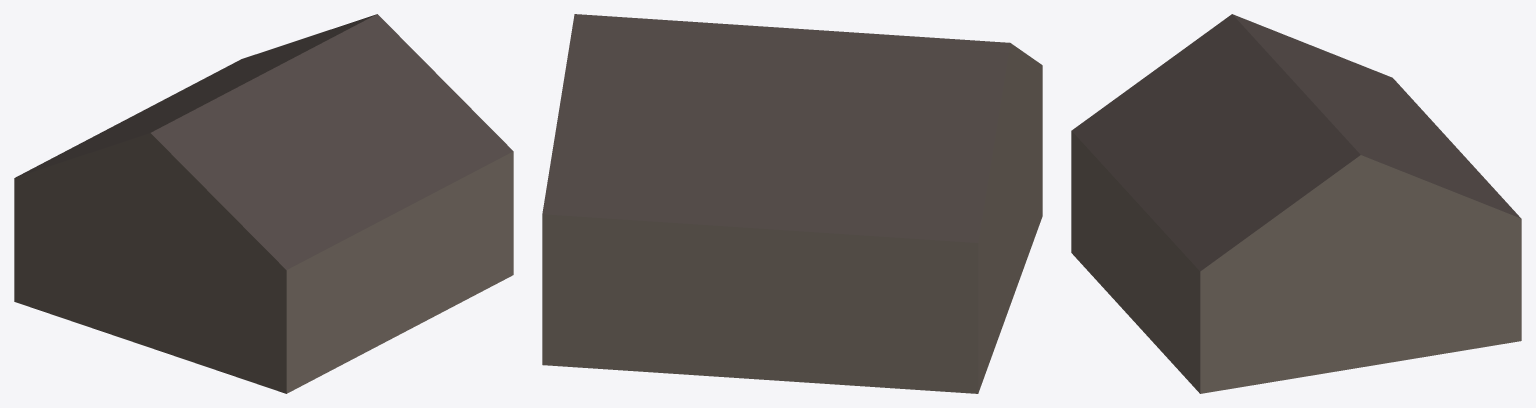
3 renders of one model, left to right at view 1: azimuth 30°, elevation 25°; view 2: azimuth 150°, elevation 25°; view 3: azimuth 270°, elevation 25°, orthographic. The views are drawn at different scales.
Visible parts, largest first — view 1: HP-w859447870; view 2: HP-w859447870; view 3: HP-w859447870.
Boxes of the visible parts, left/top/right/bottom form: HP-w859447870: left=14, top=14, right=513, bottom=393; HP-w859447870: left=542, top=14, right=1042, bottom=393; HP-w859447870: left=1071, top=14, right=1521, bottom=393.
Bounding box in the file's own units: 20.39 × 10.42 × 20.
